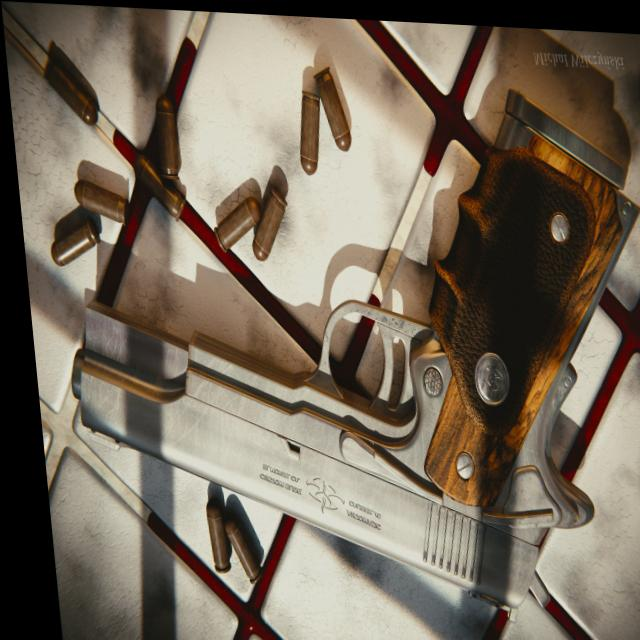handgun: (40, 61, 640, 604)
